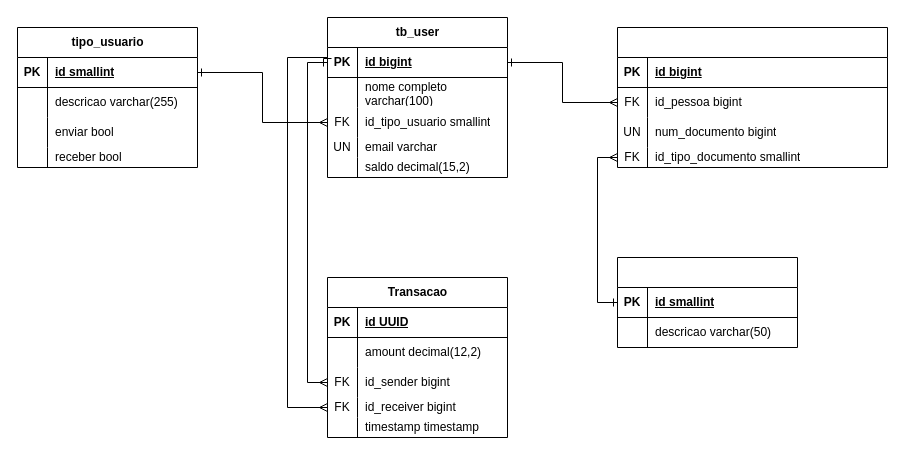
Some shapes in this 905 by 455 pixel diagram are drawn without their labels. Each missing label, with the box of its shape:
documento_pessoa: (616, 26, 888, 168)
tipos_documento: (616, 256, 798, 348)
